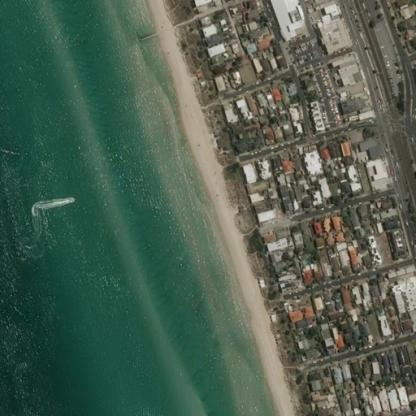ship: (63, 190, 78, 206)
